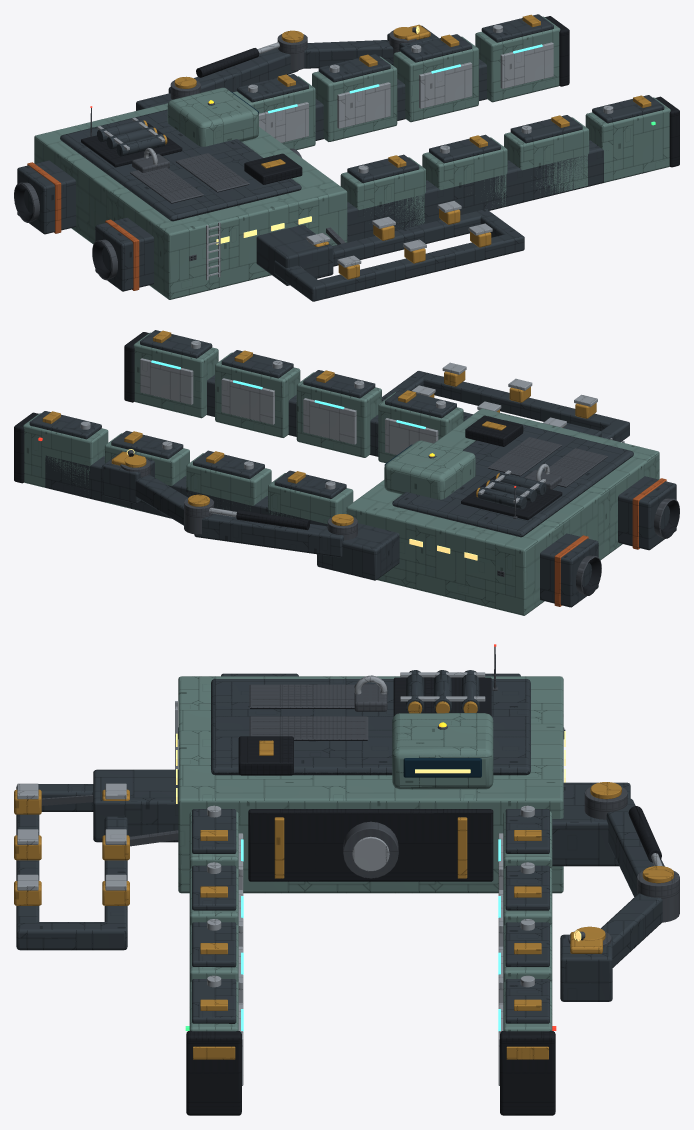
Rendered from ship_stormshift_receiver_v01.glb.
The picture shows the model from 3 angles, top to bottom: view 1: azimuth 30°, elevation 25°; view 2: azimuth 150°, elevation 25°; view 3: azimuth 270°, elevation 25°; orthographic projection. The views are drawn at different scales.
Visible parts, largest first — view 1: LOD0_Hull, LOD0_Armor, LOD0_BrushedMetal, LOD1_Armor, LOD0_Mechanical, LOD0_MechanicalDark, LOD1_Hull, LOD0_Warning, LOD0_Livery, LOD2_MechanicalDark, LOD1_Mechanical, LOD2_Armor (+1 smaller); view 2: LOD0_Hull, LOD0_Armor, LOD0_BrushedMetal, LOD1_Armor, LOD0_Mechanical, LOD0_MechanicalDark, LOD1_Hull, LOD0_Warning, LOD0_Livery, LOD2_MechanicalDark, LOD1_Mechanical, LOD2_Armor (+1 smaller); view 3: LOD0_Armor, LOD0_Hull, LOD0_MechanicalDark, LOD0_Mechanical, LOD0_Warning, LOD1_Armor, LOD0_BrushedMetal, LOD1_Hull, LOD1_MechanicalDark, LOD1_Mechanical, LOD0_CANOPY, LOD2_Armor (+1 smaller).
Boxes of the visible parts, left/top/right/bottom form: LOD0_Hull: left=34, top=16, right=670, bottom=299; LOD0_Armor: left=17, top=14, right=664, bottom=301; LOD0_BrushedMetal: left=97, top=25, right=613, bottom=280; LOD1_Armor: left=17, top=15, right=663, bottom=301; LOD0_Mechanical: left=14, top=27, right=416, bottom=280; LOD0_MechanicalDark: left=14, top=16, right=679, bottom=278; LOD1_Hull: left=34, top=16, right=670, bottom=299; LOD0_Warning: left=143, top=14, right=651, bottom=279; LOD0_Livery: left=27, top=162, right=139, bottom=290; LOD2_MechanicalDark: left=14, top=29, right=679, bottom=278; LOD1_Mechanical: left=14, top=36, right=408, bottom=279; LOD2_Armor: left=17, top=25, right=664, bottom=301; LOD0_Hull: left=23, top=332, right=659, bottom=615; LOD0_Armor: left=29, top=330, right=676, bottom=607; LOD0_BrushedMetal: left=80, top=340, right=624, bottom=517; LOD1_Armor: left=30, top=330, right=676, bottom=607; LOD0_Mechanical: left=120, top=437, right=679, bottom=595; LOD0_MechanicalDark: left=14, top=332, right=679, bottom=594; LOD1_Hull: left=23, top=336, right=659, bottom=615; LOD0_Warning: left=42, top=330, right=596, bottom=525; LOD0_Livery: left=554, top=478, right=666, bottom=606; LOD2_MechanicalDark: left=14, top=345, right=679, bottom=594; LOD1_Mechanical: left=124, top=438, right=679, bottom=595; LOD2_Armor: left=30, top=330, right=676, bottom=606; LOD0_Armor: left=16, top=670, right=664, bottom=1023; LOD0_Hull: left=178, top=676, right=563, bottom=1031; LOD0_MechanicalDark: left=186, top=677, right=661, bottom=1115; LOD0_Mechanical: left=41, top=646, right=679, bottom=947; LOD0_Warning: left=14, top=701, right=673, bottom=1059; LOD1_Armor: left=16, top=673, right=662, bottom=1023; LOD0_BrushedMetal: left=17, top=672, right=662, bottom=1085; LOD1_Hull: left=178, top=676, right=563, bottom=1031; LOD1_MechanicalDark: left=186, top=708, right=659, bottom=1115; LOD1_Mechanical: left=41, top=655, right=679, bottom=944; LOD0_CANOPY: left=403, top=758, right=481, bottom=777; LOD2_Armor: left=17, top=670, right=629, bottom=1023.
Size of what is drawn, in the model's own units: 27.82 by 5.02 by 20.39.
Materials: 14 (7 with a texture image).
